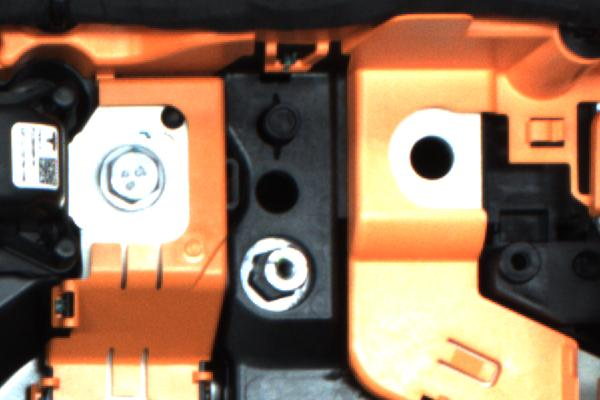nut_b: (88, 143, 179, 220)
